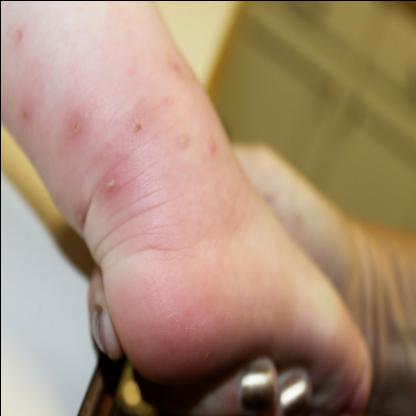Fire ant: (162, 50, 186, 80), (66, 113, 84, 139), (100, 171, 118, 197), (16, 101, 32, 130), (129, 110, 143, 138), (204, 131, 218, 159), (10, 24, 25, 48), (71, 206, 84, 226), (161, 90, 175, 107), (177, 128, 187, 150)
